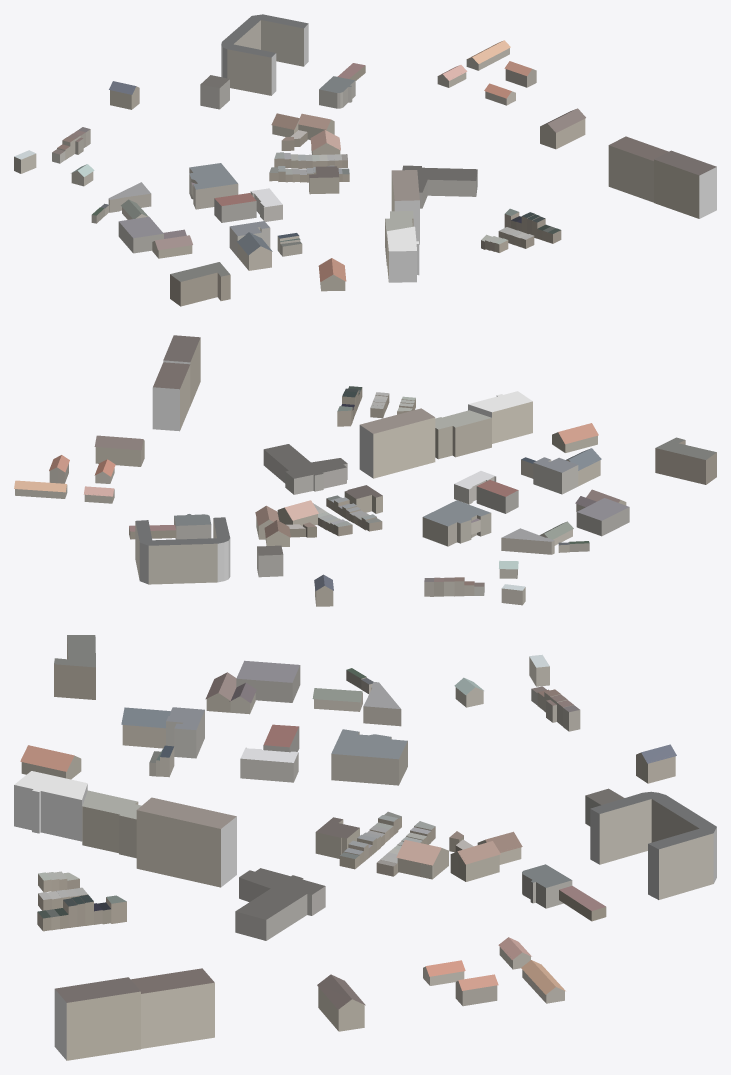
3 renders of one model, top to bottom at view 1: azimuth 30°, elevation 25°; view 2: azimuth 150°, elevation 25°; view 3: azimuth 270°, elevation 25°, orthographic. The views are drawn at different scales.
Parts seen in each view (by area): view 1: tuile; view 2: tuile; view 3: tuile.
Boxes of the visible parts, x1,y1,x2,y2 form: tuile: (14, 14, 716, 306); tuile: (14, 335, 716, 606); tuile: (14, 635, 716, 1060).
Bounding box in the file's own units: 257 × 31.6 × 220.
